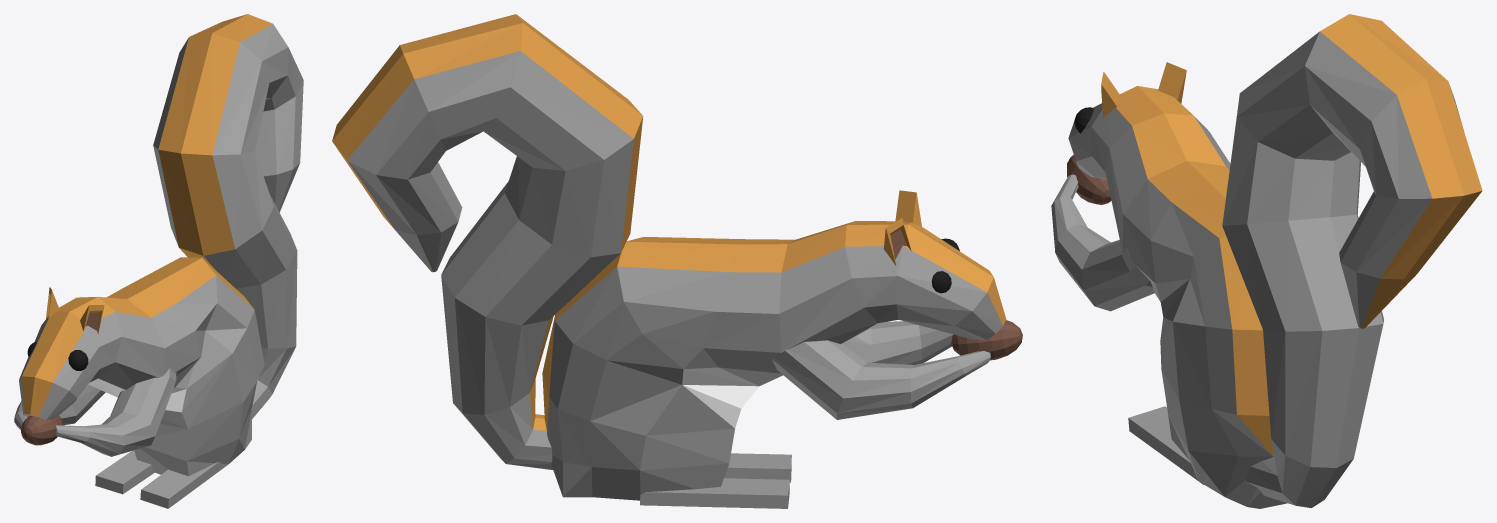
The model's file is squirrel.glb.
The picture shows the model from 3 angles, left to right: view 1: azimuth 30°, elevation 25°; view 2: azimuth 150°, elevation 25°; view 3: azimuth 270°, elevation 25°; orthographic projection. The views are drawn at different scales.
Parts seen in each view (by area): view 1: Node; view 2: Node; view 3: Node.
Part boxes in pixels (x1=…): Node: x1=14, y1=14, x2=303, y2=508; Node: x1=332, y1=14, x2=1022, y2=508; Node: x1=1051, y1=14, x2=1482, y2=508.
Size of the model in its own units: 0.4378 by 0.3932 by 0.3081.
